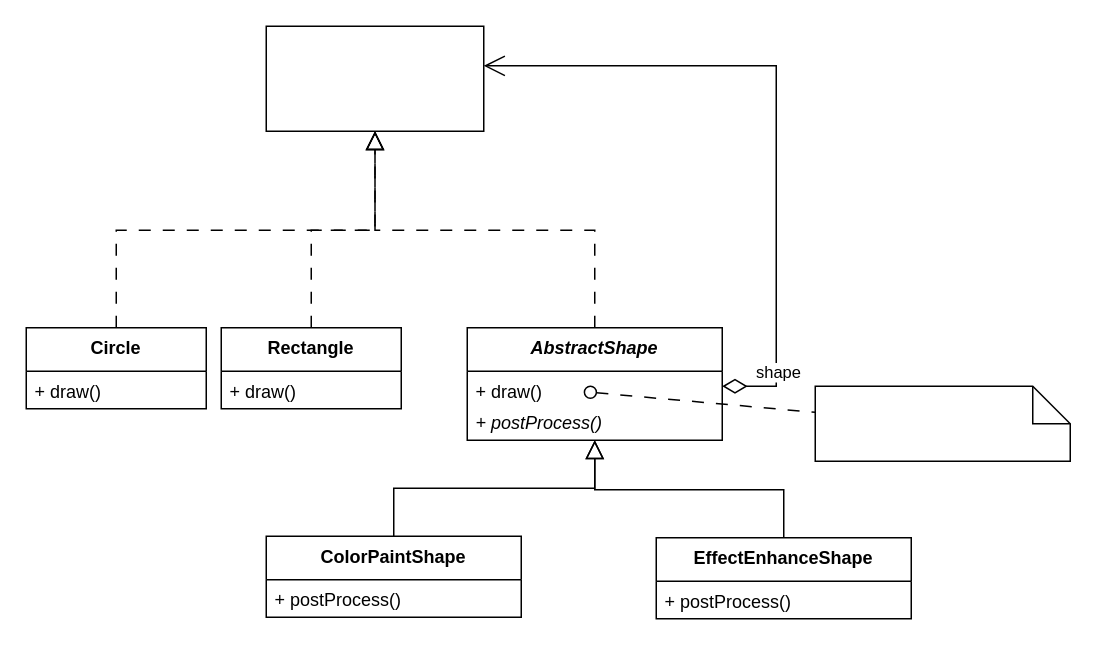
This 1097x650 diagram has some shape labels left out. The shapes that lost their labels are listed below. From the top down, each one's centre as x and y in pixels, then its label:
point (374, 78): <<Interface>> Shape + draw()
point (942, 423): this.shape.draw(); this.postProcess();
